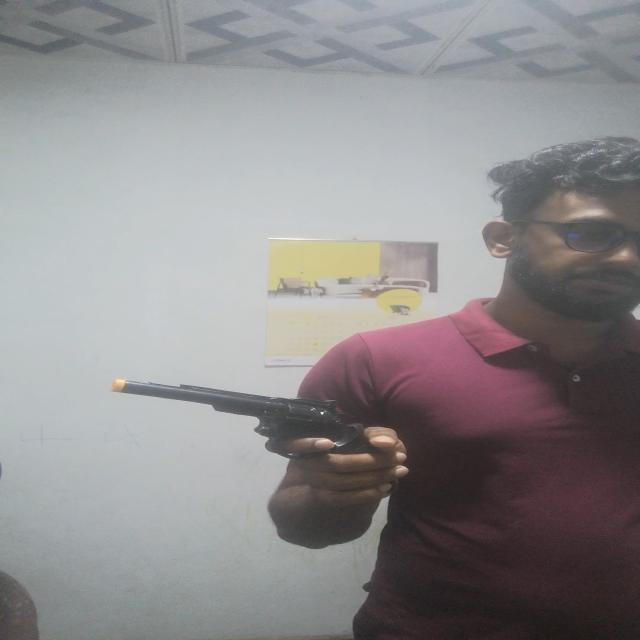Gun_Holder: (118, 378, 410, 536)
Person: (269, 140, 640, 640)
